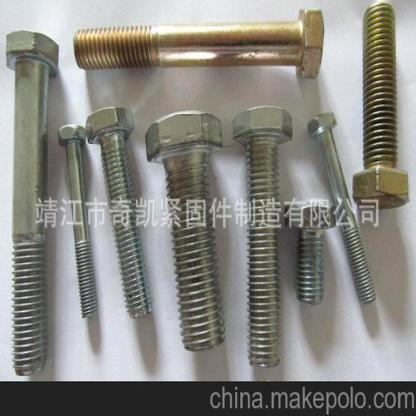FOD: (3, 25, 61, 380), (145, 107, 228, 352), (71, 5, 327, 83), (229, 102, 294, 370), (83, 102, 154, 322), (306, 110, 377, 308), (349, 1, 413, 210), (57, 122, 100, 318), (282, 198, 338, 308)
